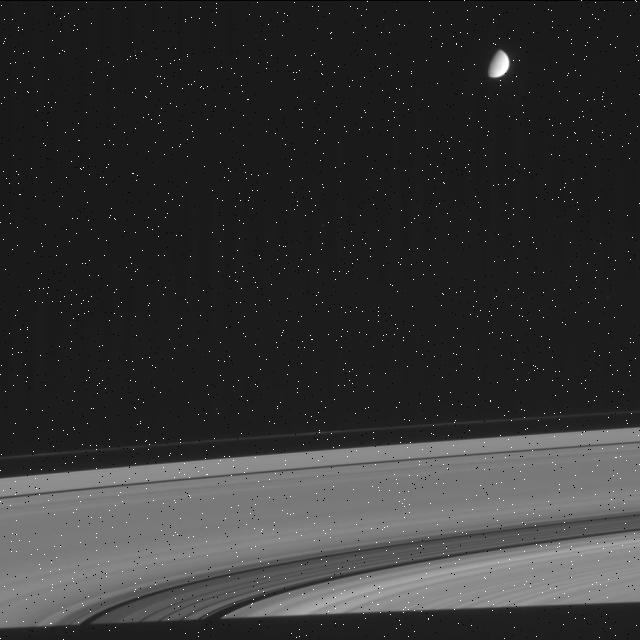Saturn: (0, 412, 640, 633)
